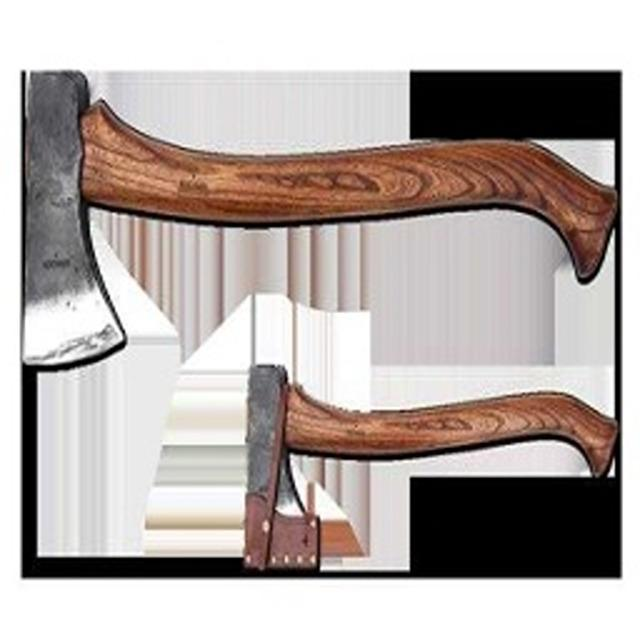ax: (10, 60, 629, 380), (230, 360, 622, 578)
